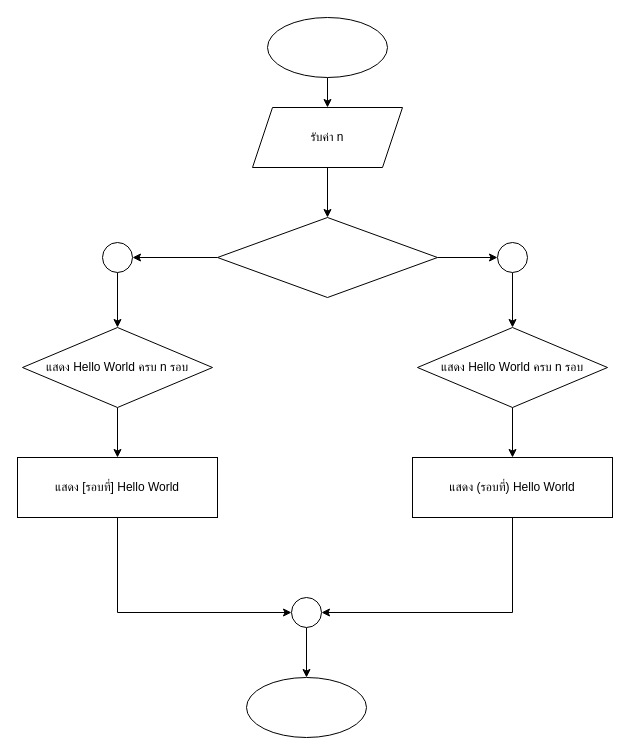
Some shapes in this 630 by 755 pixel diagram are drawn without their labels. The shapes that lost their labels are listed below. From the top down, each one's centre as x and y in pixels, then its label:
At pixel 327 47: "start".
At pixel 327 257: "n % 2 == 0".
At pixel 306 707: "end".
